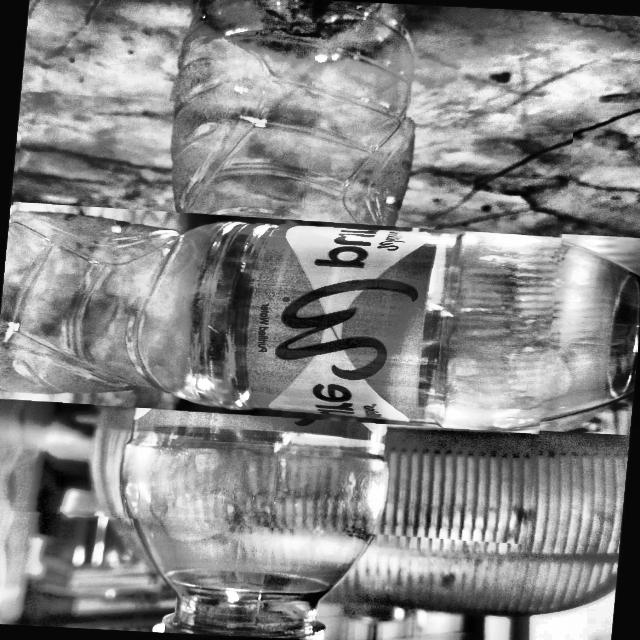Plastic-Bottle: (0, 93, 572, 543)
